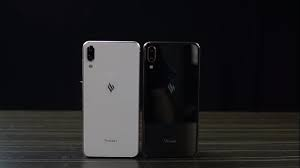vsmart: (82, 36, 141, 160), (141, 41, 200, 165)
